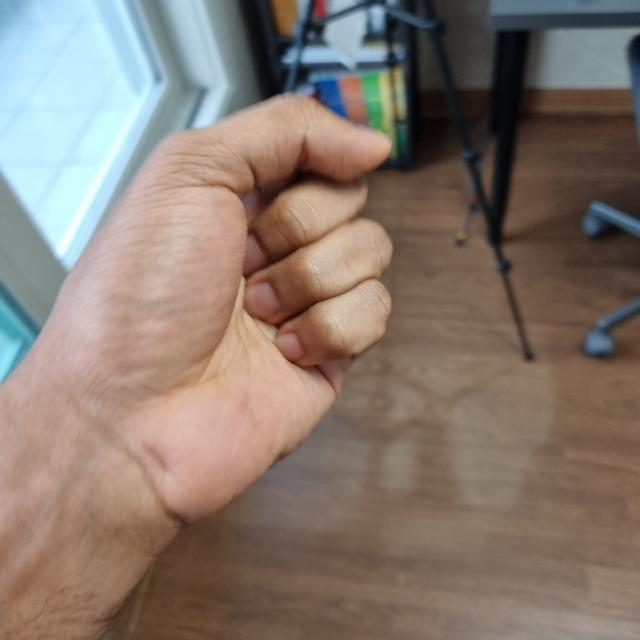Rock: (7, 93, 392, 518)
